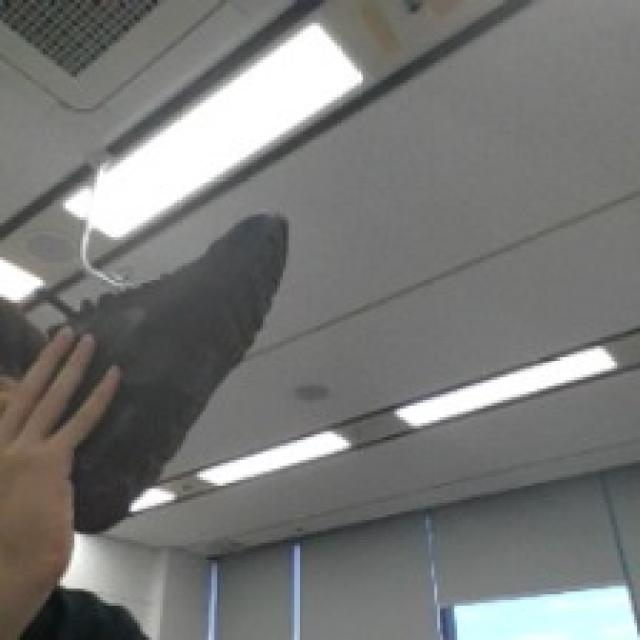shoes: (7, 210, 277, 542)
